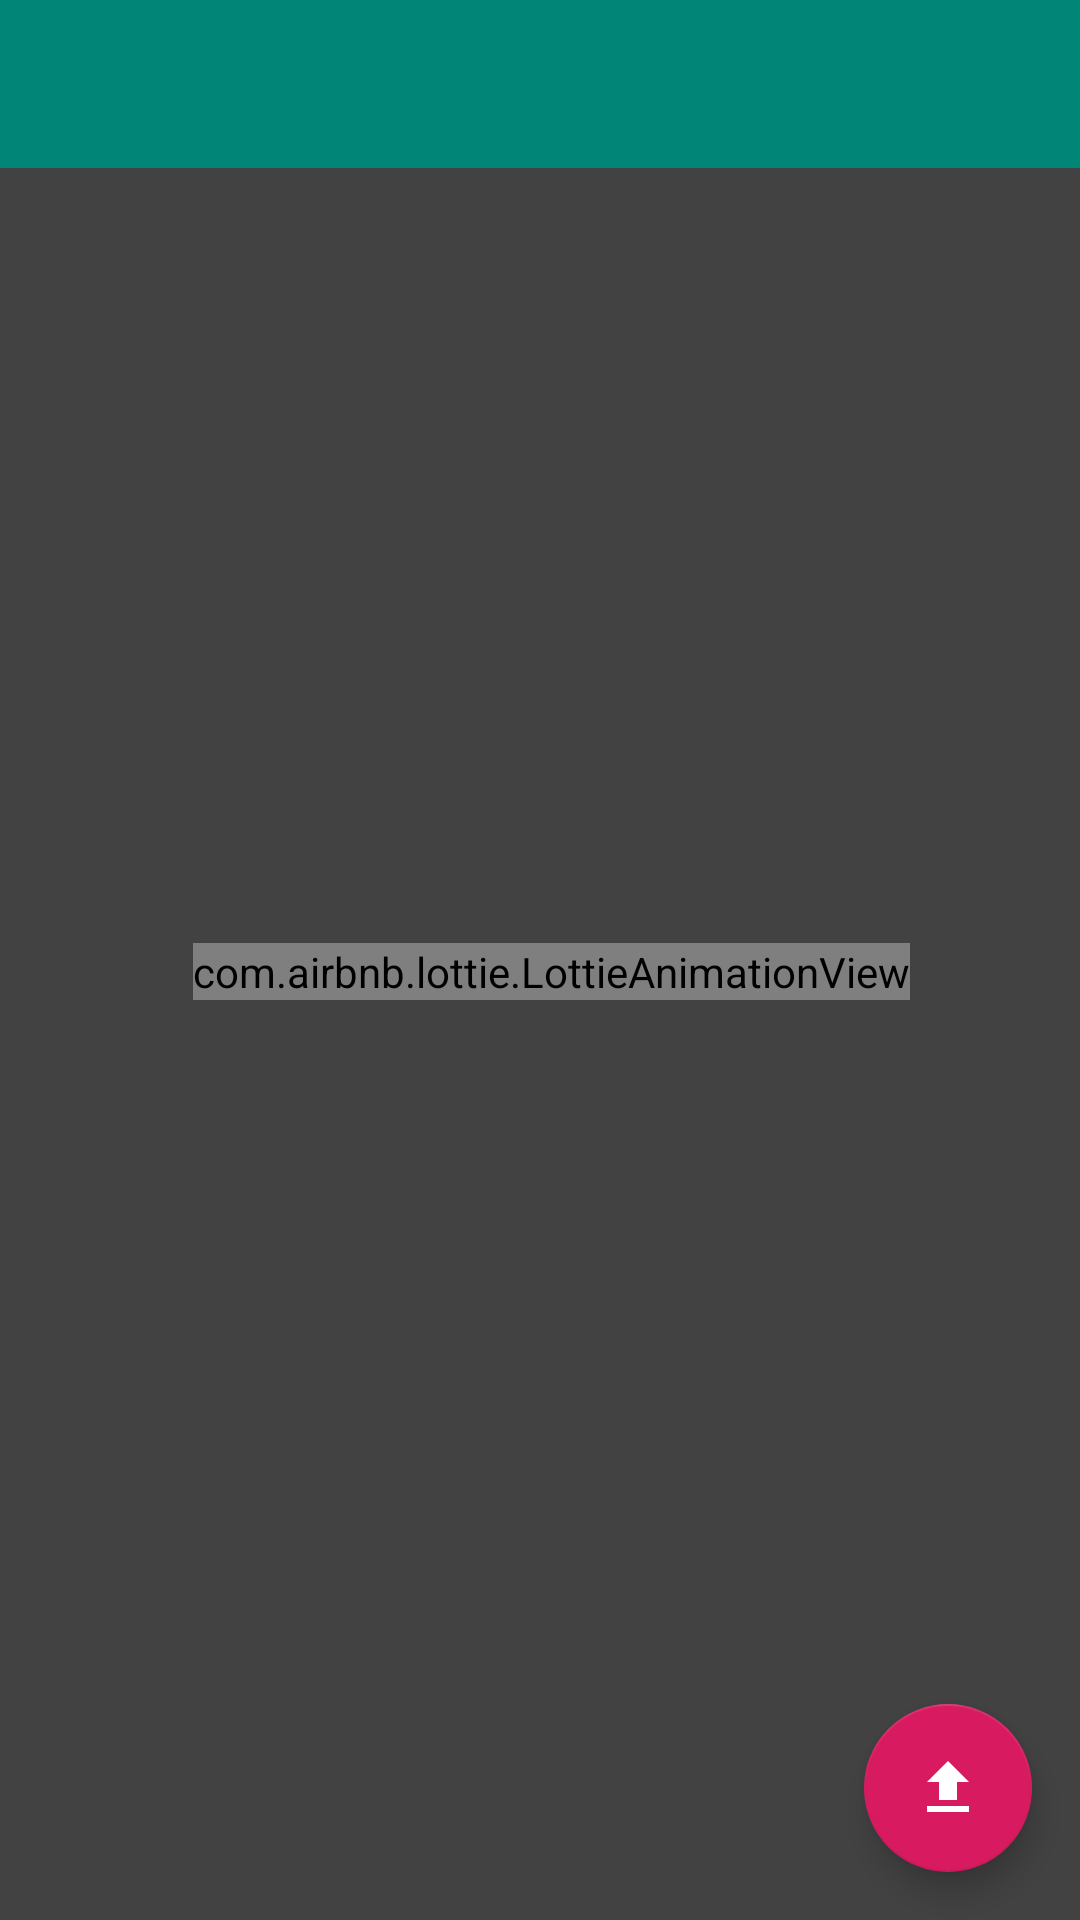

Where to tap for icons on this 1080px x 1920px app screen, as point (x, y):
file upload: point (948, 1788)
